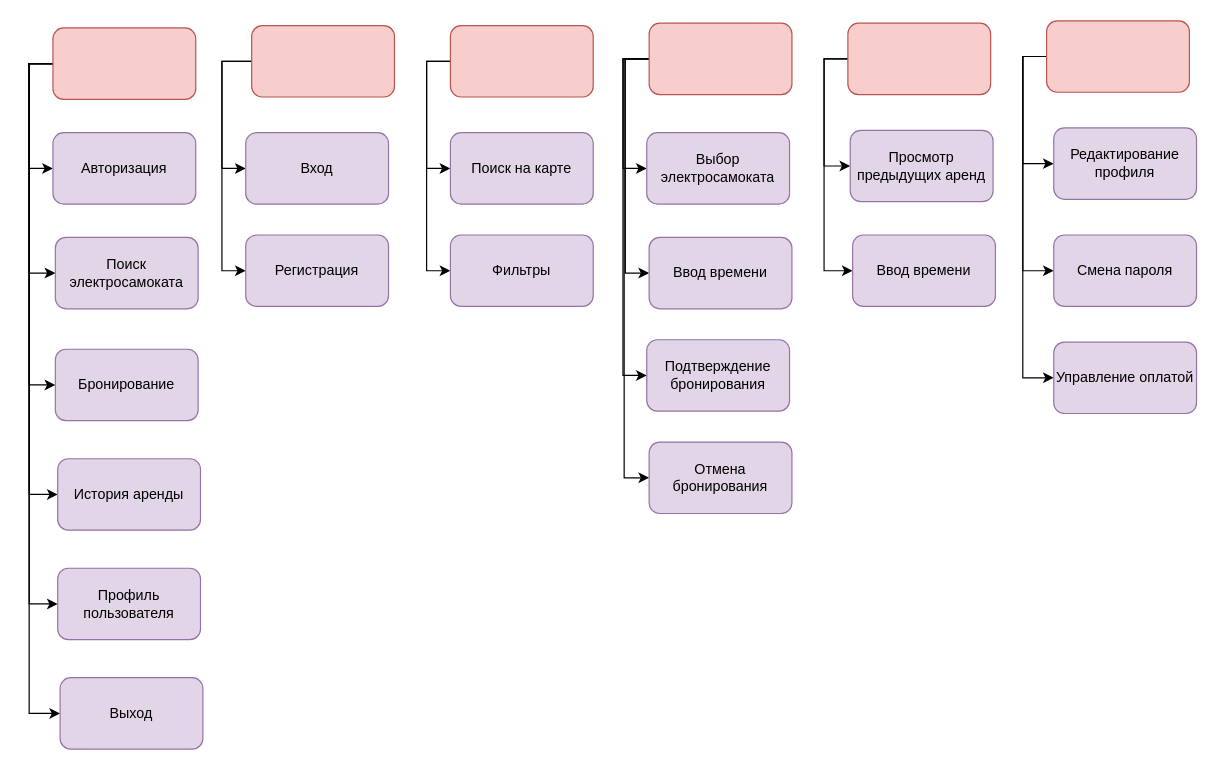
This 1217x770 diagram has some shape labels left out. Here are the shapes that lost their labels. From the top down, the centre of each, then its label:
At point (124, 63): "Главное меню".
At point (322, 60): "Меню авторизации".
At point (521, 60): "Меню поиска электросамоката".
At point (720, 58): "Меню бронирования".
At point (919, 58): "Меню истории аренды".
At point (1117, 56): "Меню профиля пользователя".
